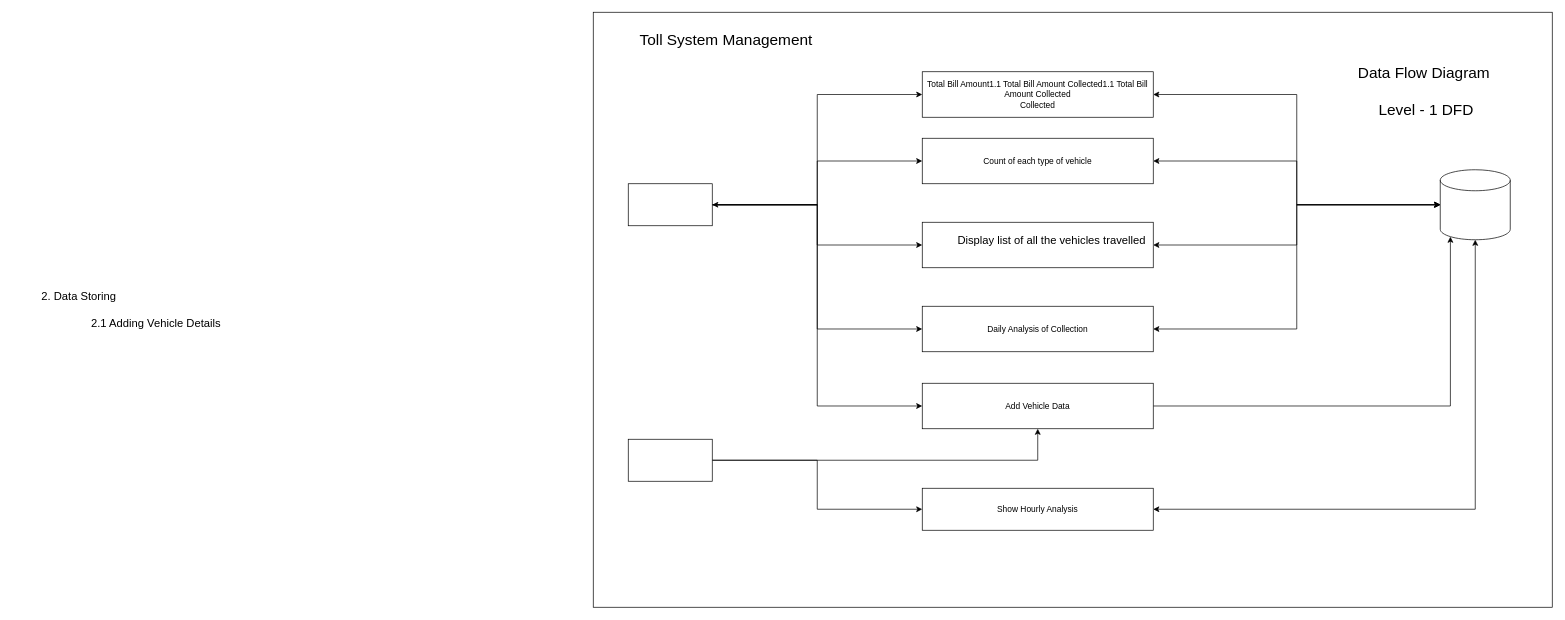
Some shapes in this 1565 by 620 pixel diagram are drawn without their labels. The shapes that lost their labels are listed below. From the top down, each one's box as (x1, y1, x2, y2) in pixels, then its label:
(628, 183, 712, 226): Admin
(1440, 169, 1510, 240): Database
(628, 439, 712, 481): Employee
